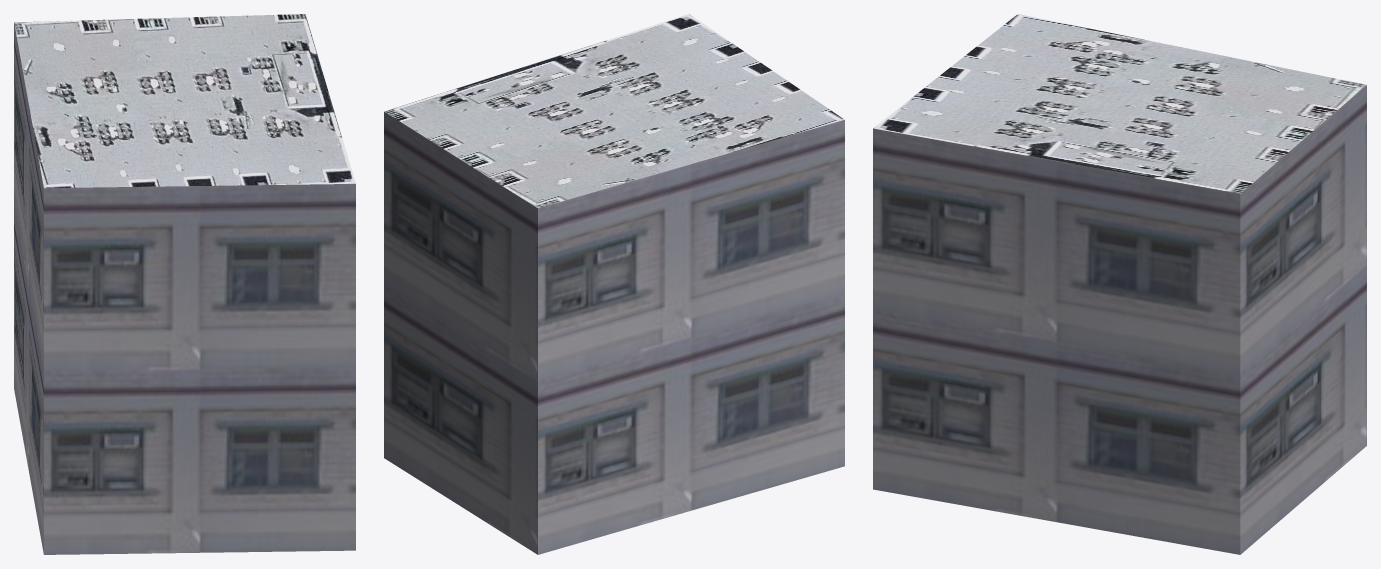
Rendered from ResTex__641.fbx.
3 renders of one model, left to right at view 1: azimuth 30°, elevation 25°; view 2: azimuth 150°, elevation 25°; view 3: azimuth 270°, elevation 25°, orthographic. The views are drawn at different scales.
Parts seen in each view (by area): view 1: CityEngineMaterial_1_m, CityEngineMaterial_4_m; view 2: CityEngineMaterial_1_m, CityEngineMaterial_4_m; view 3: CityEngineMaterial_1_m, CityEngineMaterial_4_m.
Part boxes in pixels (x1=…): CityEngineMaterial_1_m: x1=14, y1=23, x2=355, y2=554; CityEngineMaterial_4_m: x1=14, y1=14, x2=355, y2=188; CityEngineMaterial_1_m: x1=384, y1=112, x2=844, y2=554; CityEngineMaterial_4_m: x1=384, y1=14, x2=844, y2=208; CityEngineMaterial_1_m: x1=873, y1=85, x2=1366, y2=554; CityEngineMaterial_4_m: x1=873, y1=14, x2=1366, y2=193.
Size of the model in its own units: 6.42 by 6 by 7.44.
2 materials, 2 textured.
